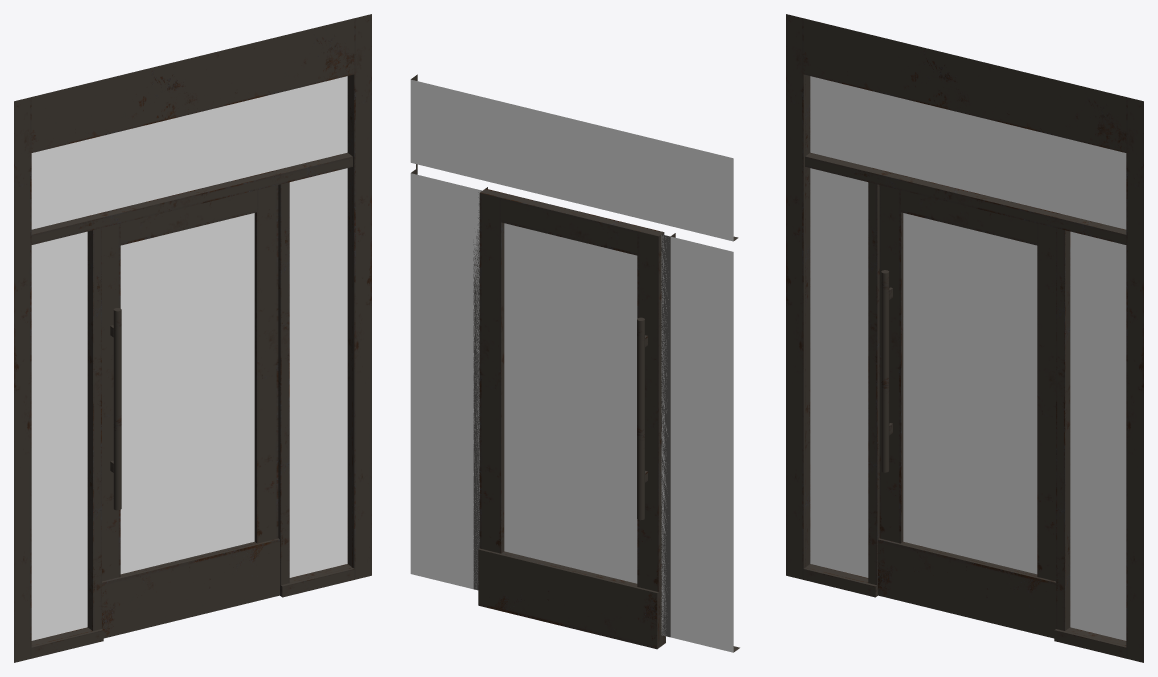
Rendered from FirstFloor_Door.fbx.
3 renders of one model, left to right at view 1: azimuth 30°, elevation 25°; view 2: azimuth 150°, elevation 25°; view 3: azimuth 330°, elevation 25°, orthographic.
Parts seen in each view (by area): view 1: FirstFloor_Door; view 2: FirstFloor_Door; view 3: FirstFloor_Door.
Part boxes in pixels (x1,y1,x2,y2): FirstFloor_Door: (14, 14, 371, 662); FirstFloor_Door: (410, 74, 739, 652); FirstFloor_Door: (786, 14, 1143, 662).
Bounding box in the file's own units: 200 × 300 × 21.03.
